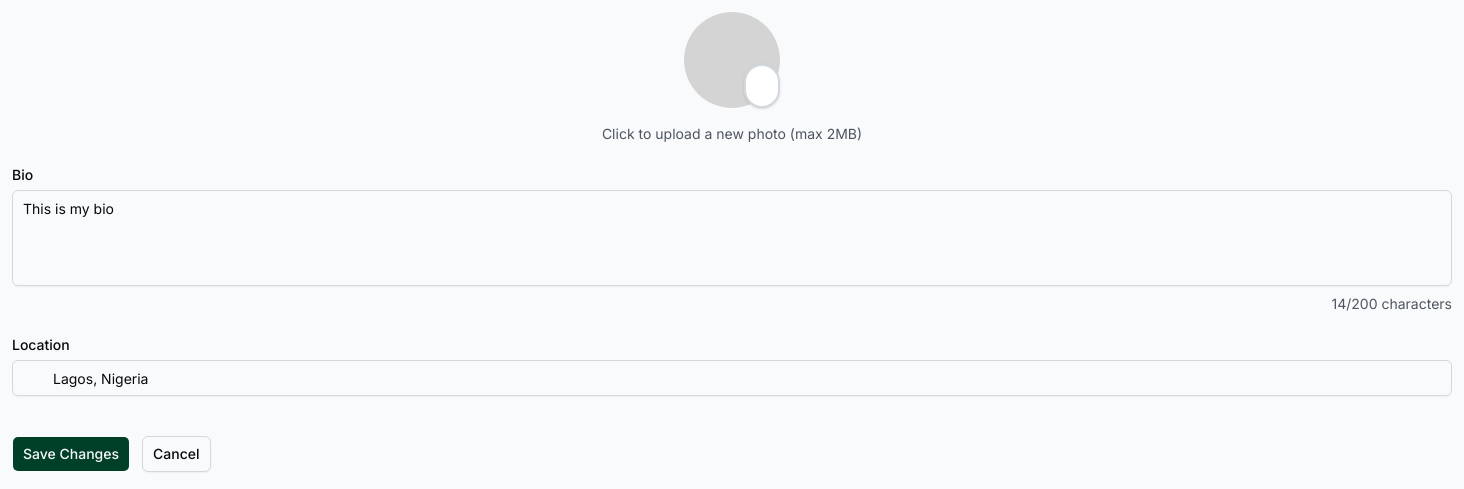
Scenario: ProfileEditForm › Loading States › disables save button while saving
This screenshot has width=1464, height=489.
Click the button "Save Changes" at (71, 454), box left=12, top=436, right=130, bottom=472
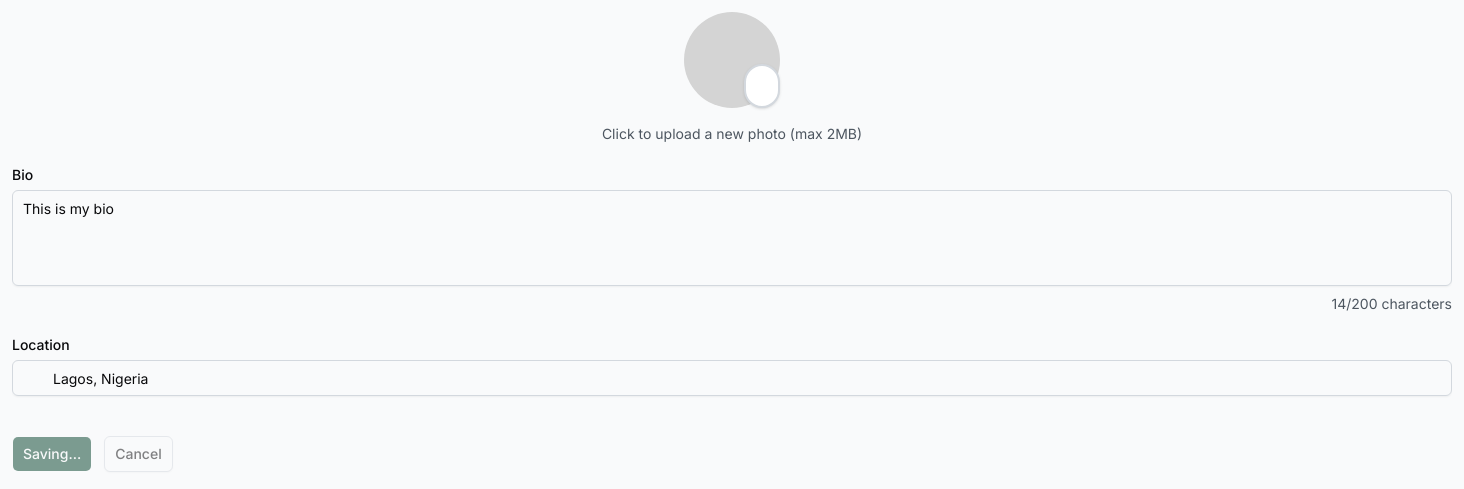
Expected: the button "Saving..." is shown, left=12, top=436, right=92, bottom=472
